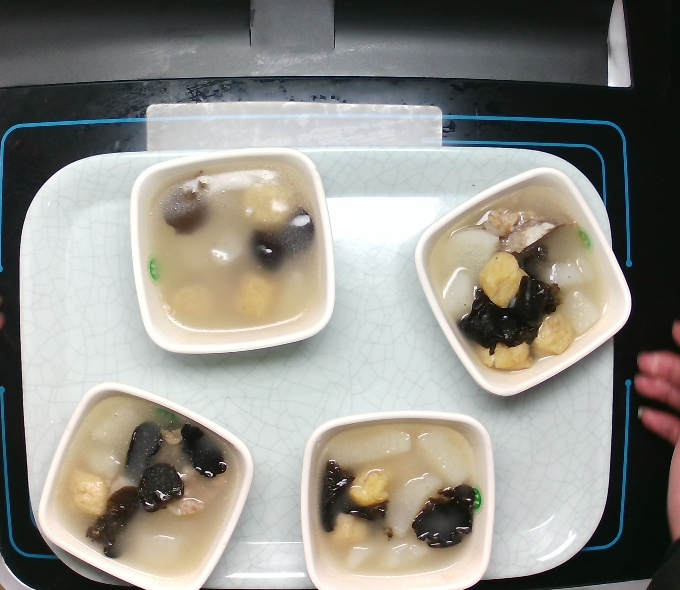wcq-ShanYaoTang: (427, 182, 623, 377), (48, 392, 245, 582), (143, 159, 327, 337), (309, 420, 486, 583)
